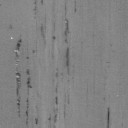slag inclusion: (52, 0, 77, 67), (14, 68, 39, 126), (14, 38, 35, 59), (48, 114, 57, 123), (107, 105, 110, 128), (32, 0, 44, 5), (55, 87, 58, 105), (40, 23, 44, 34), (55, 72, 58, 78)
